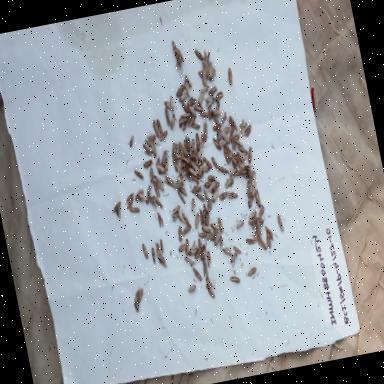pbw: (243, 190, 256, 210), (132, 185, 146, 202), (124, 192, 138, 209), (194, 92, 208, 109), (190, 182, 206, 196), (142, 141, 156, 157), (244, 147, 255, 167), (222, 144, 232, 166), (158, 148, 170, 166), (176, 113, 188, 131), (204, 276, 216, 294), (211, 134, 222, 153), (155, 160, 167, 177), (197, 132, 209, 149), (224, 66, 234, 86), (206, 101, 216, 121), (235, 152, 245, 172), (190, 158, 201, 176), (192, 265, 203, 283), (227, 114, 238, 132), (148, 194, 159, 212), (205, 282, 216, 300), (252, 216, 266, 230), (256, 203, 268, 219), (214, 123, 224, 142), (170, 37, 180, 56), (264, 223, 274, 242), (182, 237, 192, 256), (151, 118, 160, 139), (163, 106, 172, 127), (154, 240, 163, 261), (198, 243, 209, 260), (220, 128, 231, 145), (202, 257, 210, 280), (157, 129, 170, 143), (226, 167, 240, 180), (200, 122, 210, 140), (178, 188, 188, 206), (188, 138, 198, 156), (210, 111, 222, 126), (242, 162, 252, 180), (246, 166, 256, 184), (192, 211, 202, 229), (187, 242, 199, 257), (213, 230, 224, 246), (181, 100, 192, 116), (195, 146, 206, 162), (226, 124, 237, 140), (200, 207, 209, 226), (254, 219, 263, 238), (254, 188, 263, 207), (265, 231, 274, 250), (126, 132, 136, 149), (205, 196, 215, 213), (210, 154, 220, 171), (168, 113, 178, 130), (204, 95, 217, 108), (214, 88, 226, 102), (174, 84, 186, 98), (174, 176, 186, 190), (164, 174, 176, 188), (246, 208, 258, 222), (134, 168, 146, 182), (234, 218, 246, 232), (128, 203, 142, 215), (219, 110, 230, 125), (176, 224, 185, 242), (224, 140, 233, 158), (200, 68, 209, 86), (147, 166, 156, 184), (155, 212, 164, 230), (184, 80, 192, 100), (184, 72, 194, 88), (203, 154, 213, 170), (142, 242, 150, 262), (194, 132, 202, 152), (277, 213, 285, 233), (229, 136, 239, 152), (236, 149, 246, 165), (149, 244, 157, 264), (170, 142, 180, 158), (249, 184, 259, 200), (144, 191, 154, 207), (228, 250, 240, 263), (181, 224, 193, 237), (246, 265, 258, 278), (186, 94, 198, 107), (184, 253, 196, 266), (229, 274, 242, 286), (178, 157, 190, 170), (223, 176, 236, 188), (157, 254, 168, 268), (197, 110, 211, 121), (189, 146, 200, 160), (168, 94, 177, 111), (198, 207, 206, 226), (136, 287, 146, 302), (193, 245, 203, 260), (252, 228, 262, 243), (211, 108, 223, 120), (230, 152, 238, 170), (244, 178, 252, 196), (156, 118, 164, 136), (153, 173, 165, 185), (202, 184, 210, 202), (194, 168, 206, 180), (151, 140, 159, 158), (153, 184, 162, 200), (216, 215, 224, 233), (133, 294, 141, 312), (146, 132, 158, 144), (222, 246, 234, 258), (250, 170, 258, 188), (142, 157, 154, 169), (154, 181, 165, 194), (170, 209, 181, 222), (198, 83, 211, 94), (243, 124, 254, 137), (180, 210, 190, 224), (194, 47, 204, 61), (144, 136, 154, 150), (188, 198, 198, 212), (210, 188, 220, 202), (175, 159, 183, 176), (158, 237, 166, 254), (182, 138, 190, 155), (197, 237, 204, 256), (212, 122, 224, 133), (219, 164, 230, 176), (170, 204, 182, 215), (195, 192, 206, 204), (207, 85, 219, 96), (208, 180, 219, 192), (177, 92, 189, 103), (180, 152, 190, 165), (181, 119, 191, 132), (258, 237, 268, 250), (184, 136, 192, 152), (204, 210, 212, 226), (176, 140, 184, 156), (206, 62, 214, 78), (200, 60, 208, 76), (189, 106, 198, 120), (208, 66, 217, 80), (203, 58, 210, 76), (245, 234, 256, 245), (188, 166, 198, 178), (233, 244, 243, 256), (178, 48, 186, 63), (186, 116, 196, 128), (222, 122, 232, 134), (180, 143, 188, 158), (210, 220, 222, 230), (248, 216, 260, 226), (240, 144, 250, 156), (218, 136, 230, 146), (194, 102, 204, 114), (206, 251, 213, 268), (145, 182, 154, 195), (164, 158, 172, 172), (178, 56, 185, 72), (186, 284, 197, 294), (228, 190, 239, 200), (237, 120, 248, 130), (234, 137, 244, 148), (195, 158, 206, 168), (164, 98, 173, 110), (206, 232, 218, 241), (172, 158, 179, 173), (218, 190, 228, 200), (138, 192, 148, 202), (180, 170, 190, 180), (202, 224, 212, 234), (190, 174, 200, 184), (177, 242, 187, 252), (179, 185, 188, 196), (218, 234, 225, 248), (181, 111, 193, 119), (175, 55, 182, 68), (191, 122, 201, 131), (234, 169, 244, 178), (178, 116, 188, 125), (202, 203, 210, 214), (214, 101, 222, 112), (204, 180, 214, 188), (198, 230, 208, 238), (174, 46, 182, 56), (206, 174, 216, 182), (201, 164, 210, 172)
